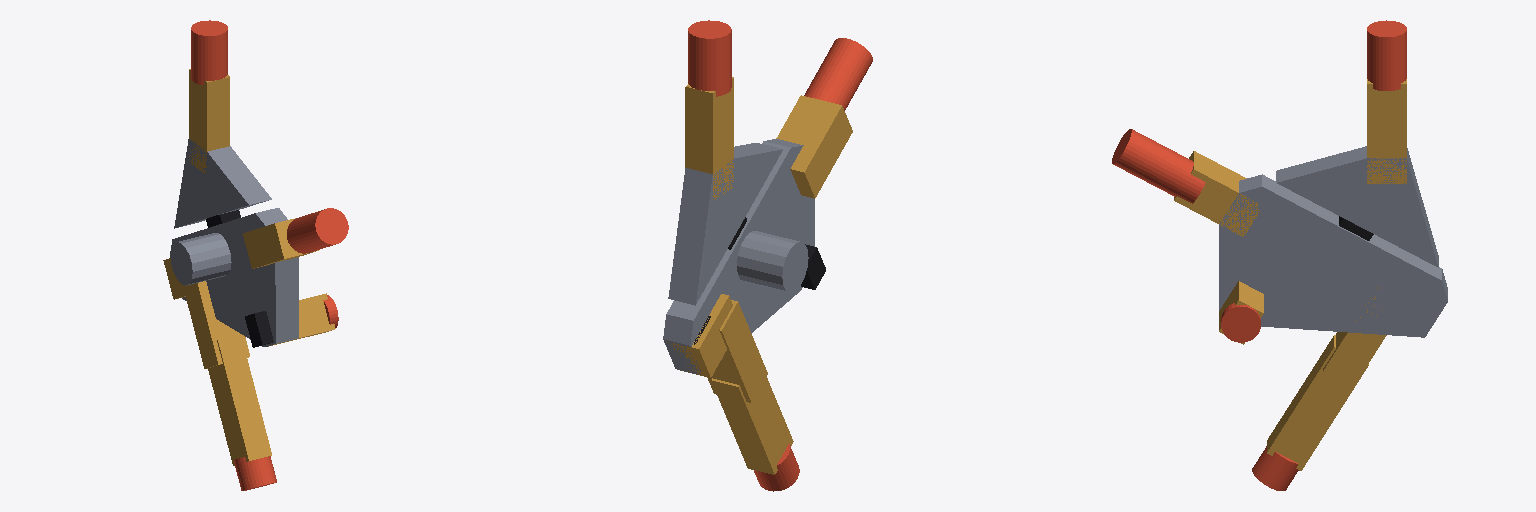
URDF robot description (g0052_c07):
<robot name="g0052_c07">
  <link name="palm">
    <visual name="palm_palm1">
      <origin xyz="0 0 0" rpy="0 0 0" />
      <geometry>
        <mesh filename="palm_palm1.obj" />
      </geometry>
      <material name="palm_palm1_mat">
        <color rgba="0.55 0.57 0.62 1" />
      </material>
    </visual>
    <collision>
      <origin xyz="0 0 0" rpy="0 0 0" />
      <geometry>
        <mesh filename="palm_palm1.obj" />
      </geometry>
    </collision>
    <visual name="palm_mount2">
      <origin xyz="0 0 0" rpy="0 0 0" />
      <geometry>
        <mesh filename="palm_mount2.obj" />
      </geometry>
      <material name="palm_mount2_mat">
        <color rgba="0.55 0.57 0.62 1" />
      </material>
    </visual>
    <collision>
      <origin xyz="0 0 0" rpy="0 0 0" />
      <geometry>
        <mesh filename="palm_mount2.obj" />
      </geometry>
    </collision>
    <visual name="palm_hinge3">
      <origin xyz="0 0.01125 0.0194855716" rpy="-1.57079633 0.523598776 1.57079633" />
      <geometry>
        <box size="0.029 0.034 0.02" />
      </geometry>
      <material name="palm_hinge3_mat">
        <color rgba="0.15 0.15 0.17 1" />
      </material>
    </visual>
    <collision>
      <origin xyz="0 0.01125 0.0194855716" rpy="-1.57079633 0.523598776 1.57079633" />
      <geometry>
        <box size="0.029 0.034 0.02" />
      </geometry>
    </collision>
    <visual name="palm_motor4">
      <origin xyz="-0.007 -0.08 -0.04" rpy="1.06057524e-16 -1.04719755 1.57079633" />
      <geometry>
        <box size="0.029 0.034 0.02" />
      </geometry>
      <material name="palm_motor4_mat">
        <color rgba="0.15 0.15 0.17 1" />
      </material>
    </visual>
    <collision>
      <origin xyz="-0.007 -0.08 -0.04" rpy="1.06057524e-16 -1.04719755 1.57079633" />
      <geometry>
        <box size="0.029 0.034 0.02" />
      </geometry>
    </collision>
    <visual name="palm_motor5">
      <origin xyz="0 -0.0735048095 0.03625" rpy="-1.57079633 -1.04719755 1.57079633" />
      <geometry>
        <box size="0.029 0.034 0.02" />
      </geometry>
      <material name="palm_motor5_mat">
        <color rgba="0.15 0.15 0.17 1" />
      </material>
    </visual>
    <collision>
      <origin xyz="0 -0.0735048095 0.03625" rpy="-1.57079633 -1.04719755 1.57079633" />
      <geometry>
        <box size="0.029 0.034 0.02" />
      </geometry>
    </collision>
    <visual name="palm_motor6">
      <origin xyz="-0.0045 0.0666996732 -0.0467548095" rpy="1.57079633 -0.523598776 -1.57079633" />
      <geometry>
        <box size="0.029 0.034 0.02" />
      </geometry>
      <material name="palm_motor6_mat">
        <color rgba="0.15 0.15 0.17 1" />
      </material>
    </visual>
    <collision>
      <origin xyz="-0.0045 0.0666996732 -0.0467548095" rpy="1.57079633 -0.523598776 -1.57079633" />
      <geometry>
        <box size="0.029 0.034 0.02" />
      </geometry>
    </collision>
    <inertial>
      <origin xyz="-1.27961194e-19 -0.0179506093 -0.0140764242" rpy="1.57079633 0.368820023 1.57079633" />
      <mass value="0.724002533" />
      <inertia ixx="0.000610524896" ixy="0" ixz="0" iyy="0.00199602001" iyz="0" izz="0.00253704066" />
    </inertial>
  </link>
  <link name="palm0">
    <visual name="palm0_palm1">
      <origin xyz="0 0 0" rpy="0 0 0" />
      <geometry>
        <mesh filename="palm0_palm1.obj" />
      </geometry>
      <material name="palm0_palm1_mat">
        <color rgba="0.55 0.57 0.62 1" />
      </material>
    </visual>
    <collision>
      <origin xyz="0 0 0" rpy="0 0 0" />
      <geometry>
        <mesh filename="palm0_palm1.obj" />
      </geometry>
    </collision>
    <visual name="palm0_motor2">
      <origin xyz="0 0.025 0.0465192379" rpy="-1.57079633 -0 1.57079633" />
      <geometry>
        <box size="0.029 0.034 0.02" />
      </geometry>
      <material name="palm0_motor2_mat">
        <color rgba="0.15 0.15 0.17 1" />
      </material>
    </visual>
    <collision>
      <origin xyz="0 0.025 0.0465192379" rpy="-1.57079633 -0 1.57079633" />
      <geometry>
        <box size="0.029 0.034 0.02" />
      </geometry>
    </collision>
    <inertial>
      <origin xyz="0 0.0130639887 0.0269205176" rpy="-1.57079633 -0.525925129 -1.57079633" />
      <mass value="0.252867523" />
      <inertia ixx="9.18066466e-05" ixy="0" ixz="0" iyy="0.000269227562" iyz="0" izz="0.000336758926" />
    </inertial>
  </link>
  <link name="f0_link0">
    <visual name="f0_link0_link1">
      <origin xyz="0.01875 0 -6.9388939e-18" rpy="4.06369831e-17 2.80588734e-33 -2.0827301e-33" />
      <geometry>
        <box size="0.0615 0.033 0.024" />
      </geometry>
      <material name="f0_link0_link1_mat">
        <color rgba="0.80 0.62 0.30 1" />
      </material>
    </visual>
    <collision>
      <origin xyz="0.01875 0 -6.9388939e-18" rpy="4.06369831e-17 2.80588734e-33 -2.0827301e-33" />
      <geometry>
        <box size="0.0615 0.033 0.024" />
      </geometry>
    </collision>
    <inertial>
      <origin xyz="0.01875 0 0" rpy="0 0 0" />
      <mass value="0.085239" />
      <inertia ixx="1.18269113e-05" ixy="0" ixz="0" iyy="3.09577393e-05" iyz="0" izz="3.46017066e-05" />
    </inertial>
  </link>
  <link name="f0_link1">
    <visual name="f0_link1_link1">
      <origin xyz="0.009 0 -6.9388939e-18" rpy="-1.57079633 -0 -1.57079633" />
      <geometry>
        <cylinder radius="0.0165" length="0.009" />
      </geometry>
      <material name="f0_link1_link1_mat">
        <color rgba="0.85 0.35 0.25 1" />
      </material>
    </visual>
    <collision>
      <origin xyz="0.009 0 -6.9388939e-18" rpy="-1.57079633 -0 -1.57079633" />
      <geometry>
        <cylinder radius="0.0165" length="0.009" />
      </geometry>
    </collision>
    <inertial>
      <origin xyz="0.009 0 0" rpy="0 0 0" />
      <mass value="0.046399949" />
      <inertia ixx="5.41970115e-06" ixy="0" ixz="0" iyy="7.09430898e-06" iyz="0" izz="7.09430898e-06" />
    </inertial>
  </link>
  <link name="f1_link0">
    <visual name="f1_link0_link1">
      <origin xyz="0.02125 -0.00625 -2.60208521e-18" rpy="0 7.03853194e-17 0" />
      <geometry>
        <box size="0.0665 0.0365 0.033" />
      </geometry>
      <material name="f1_link0_link1_mat">
        <color rgba="0.80 0.62 0.30 1" />
      </material>
    </visual>
    <collision>
      <origin xyz="0.02125 -0.00625 -2.60208521e-18" rpy="0 7.03853194e-17 0" />
      <geometry>
        <box size="0.0665 0.0365 0.033" />
      </geometry>
    </collision>
    <inertial>
      <origin xyz="0.02125 -0.00625 0" rpy="0 0 0" />
      <mass value="0.140173688" />
      <inertia ixx="2.82829617e-05" ixy="0" ixz="0" iyy="6.43776863e-05" iyz="0" izz="6.72191237e-05" />
    </inertial>
  </link>
  <link name="f1_link1">
    <visual name="f1_link1_link1">
      <origin xyz="0.03675 0 -5.20417043e-18" rpy="-1.57079633 -0 -1.57079633" />
      <geometry>
        <cylinder radius="0.0165" length="0.0735" />
      </geometry>
      <material name="f1_link1_link1_mat">
        <color rgba="0.85 0.35 0.25 1" />
      </material>
    </visual>
    <collision>
      <origin xyz="0.03675 0 -5.20417043e-18" rpy="-1.57079633 -0 -1.57079633" />
      <geometry>
        <cylinder radius="0.0165" length="0.0735" />
      </geometry>
    </collision>
    <inertial>
      <origin xyz="0.03675 0 0" rpy="0 0 0" />
      <mass value="0.142941779" />
      <inertia ixx="1.85614577e-05" ixy="0" ixz="0" iyy="0.000120048249" iyz="0" izz="0.000120048249" />
    </inertial>
  </link>
  <link name="f2_link0">
    <visual name="f2_link0_link1">
      <origin xyz="-0.00625 0 -0.0165" rpy="0 4.06369831e-17 0" />
      <geometry>
        <box size="0.0365 0.029 0.053" />
      </geometry>
      <material name="f2_link0_link1_mat">
        <color rgba="0.80 0.62 0.30 1" />
      </material>
    </visual>
    <collision>
      <origin xyz="-0.00625 0 -0.0165" rpy="0 4.06369831e-17 0" />
      <geometry>
        <box size="0.0365 0.029 0.053" />
      </geometry>
    </collision>
    <inertial>
      <origin xyz="-0.00625 0 -0.0165" rpy="0 0 0" />
      <mass value="0.098175875" />
      <inertia ixx="2.98618286e-05" ixy="0" ixz="0" iyy="3.38809035e-05" iyz="0" izz="1.778006e-05" />
    </inertial>
  </link>
  <link name="f2_link1">
    <visual name="f2_link1_link1">
      <origin xyz="0.03375 0 6.9388939e-18" rpy="0 4.06369831e-17 0" />
      <geometry>
        <box size="0.0915 0.033 0.029" />
      </geometry>
      <material name="f2_link1_link1_mat">
        <color rgba="0.80 0.62 0.30 1" />
      </material>
    </visual>
    <collision>
      <origin xyz="0.03375 0 6.9388939e-18" rpy="0 4.06369831e-17 0" />
      <geometry>
        <box size="0.0915 0.033 0.029" />
      </geometry>
    </collision>
    <inertial>
      <origin xyz="0.03375 0 0" rpy="0 0 0" />
      <mass value="0.153239625" />
      <inertia ixx="2.46460397e-05" ixy="0" ixz="0" iyy="0.000117652915" iyz="0" izz="0.000120819867" />
    </inertial>
  </link>
  <link name="f2_link2">
    <visual name="f2_link2_link1">
      <origin xyz="0.04375 0 -6.9388939e-18" rpy="0 4.06369831e-17 0" />
      <geometry>
        <box size="0.1115 0.024 0.033" />
      </geometry>
      <material name="f2_link2_link1_mat">
        <color rgba="0.80 0.62 0.30 1" />
      </material>
    </visual>
    <collision>
      <origin xyz="0.04375 0 -6.9388939e-18" rpy="0 4.06369831e-17 0" />
      <geometry>
        <box size="0.1115 0.024 0.033" />
      </geometry>
    </collision>
    <inertial>
      <origin xyz="0.04375 0 0" rpy="0 0 0" />
      <mass value="0.154539" />
      <inertia ixx="2.14422863e-05" ixy="0" ixz="0" iyy="0.000174130038" iyz="0" izz="0.000167523496" />
    </inertial>
  </link>
  <link name="f2_link3">
    <visual name="f2_link3_link1">
      <origin xyz="0.019 0 -1.73472348e-17" rpy="-1.57079633 -0 -1.57079633" />
      <geometry>
        <cylinder radius="0.0165" length="0.029" />
      </geometry>
      <material name="f2_link3_link1_mat">
        <color rgba="0.85 0.35 0.25 1" />
      </material>
    </visual>
    <collision>
      <origin xyz="0.019 0 -1.73472348e-17" rpy="-1.57079633 -0 -1.57079633" />
      <geometry>
        <cylinder radius="0.0165" length="0.029" />
      </geometry>
    </collision>
    <inertial>
      <origin xyz="0.019 0 0" rpy="0 0 0" />
      <mass value="0.0763354" />
      <inertia ixx="9.49466441e-06" ixy="0" ixz="0" iyy="2.24143997e-05" iyz="0" izz="2.24143997e-05" />
    </inertial>
  </link>
  <link name="f3_link0">
    <visual name="f3_link0_link1">
      <origin xyz="0.03375 0 0" rpy="0 -0 0" />
      <geometry>
        <box size="0.0915 0.024 0.033" />
      </geometry>
      <material name="f3_link0_link1_mat">
        <color rgba="0.80 0.62 0.30 1" />
      </material>
    </visual>
    <collision>
      <origin xyz="0.03375 0 0" rpy="0 -0 0" />
      <geometry>
        <box size="0.0915 0.024 0.033" />
      </geometry>
    </collision>
    <inertial>
      <origin xyz="0.03375 0 0" rpy="0 0 0" />
      <mass value="0.126819" />
      <inertia ixx="1.75961363e-05" ixy="0" ixz="0" iyy="9.99888553e-05" iyz="0" izz="9.45673431e-05" />
    </inertial>
  </link>
  <link name="f3_link1">
    <visual name="f3_link1_link1">
      <origin xyz="0.029 0 0" rpy="-1.57079633 -0 -1.57079633" />
      <geometry>
        <cylinder radius="0.0165" length="0.049" />
      </geometry>
      <material name="f3_link1_link1_mat">
        <color rgba="0.85 0.35 0.25 1" />
      </material>
    </visual>
    <collision>
      <origin xyz="0.029 0 0" rpy="-1.57079633 -0 -1.57079633" />
      <geometry>
        <cylinder radius="0.0165" length="0.049" />
      </geometry>
    </collision>
    <inertial>
      <origin xyz="0.029 0 0" rpy="0 0 0" />
      <mass value="0.106270851" />
      <inertia ixx="1.35696277e-05" ixy="0" ixz="0" iyy="5.30015704e-05" iyz="0" izz="5.30015704e-05" />
    </inertial>
  </link>
  <joint name="palm0_joint" type="revolute">
    <parent link="palm" />
    <child link="palm0" />
    <origin xyz="0 0.015 0.0259807621" rpy="0 0 0" />
    <axis xyz="0 0.866025404 -0.5" />
    <limit effort="0.5" lower="-0.523598776" upper="0.523598776" velocity="5" />
    <dynamics damping="0.0775033" friction="0" />
  </joint>
  <joint name="f0_j0" type="revolute">
    <parent link="palm" />
    <child link="f0_link0" />
    <origin xyz="0.0005 -0.08 -0.04" rpy="1.04719755 5.30287619e-17 -3.061617e-17" />
    <axis xyz="0 1 6.123234e-17" />
    <limit effort="0.5" lower="-0.523598776" upper="0.523598776" velocity="5" />
    <dynamics damping="0.0775033" friction="0" />
  </joint>
  <joint name="f0_j1" type="revolute">
    <parent link="f0_link0" />
    <child link="f0_link1" />
    <origin xyz="0.04 0 0" rpy="0 0 0" />
    <axis xyz="0 1 6.123234e-17" />
    <limit effort="0.5" lower="-0.523598776" upper="0.523598776" velocity="5" />
    <dynamics damping="0.0775033" friction="0" />
  </joint>
  <joint name="f1_j0" type="revolute">
    <parent link="palm" />
    <child link="f1_link0" />
    <origin xyz="0 -0.08 0.04" rpy="-0 -0.523598776 -1.57079633" />
    <axis xyz="0 0 1" />
    <limit effort="0.5" lower="-0.523598776" upper="1.57079633" velocity="5" />
    <dynamics damping="0.0775033" friction="0" />
  </joint>
  <joint name="f1_j1" type="revolute">
    <parent link="f1_link0" />
    <child link="f1_link1" />
    <origin xyz="0.04 0 0" rpy="0 0 0" />
    <axis xyz="1 0 6.123234e-17" />
    <limit effort="0.5" lower="-1.57079633" upper="1.57079633" velocity="5" />
    <dynamics damping="0.0775033" friction="0" />
  </joint>
  <joint name="f2_j0" type="revolute">
    <parent link="palm" />
    <child link="f2_link0" />
    <origin xyz="-0.0045 0.04 -0.04" rpy="0 1.04719755 -1.57079633" />
    <axis xyz="0 0 1" />
    <limit effort="0.5" lower="-0.523598776" upper="1.57079633" velocity="5" />
    <dynamics damping="0.0775033" friction="0" />
  </joint>
  <joint name="f2_j1" type="revolute">
    <parent link="f2_link0" />
    <child link="f2_link1" />
    <origin xyz="0 0 0" rpy="0 0 0" />
    <axis xyz="0 1 6.123234e-17" />
    <limit effort="0.5" lower="-0.523598776" upper="0.523598776" velocity="5" />
    <dynamics damping="0.0775033" friction="0" />
  </joint>
  <joint name="f2_j2" type="revolute">
    <parent link="f2_link1" />
    <child link="f2_link2" />
    <origin xyz="0.07 0 0" rpy="0 0 0" />
    <axis xyz="0 0 1" />
    <limit effort="0.5" lower="-0.523598776" upper="1.57079633" velocity="5" />
    <dynamics damping="0.0775033" friction="0" />
  </joint>
  <joint name="f2_j3" type="revolute">
    <parent link="f2_link2" />
    <child link="f2_link3" />
    <origin xyz="0.09 0 0" rpy="0 0 0" />
    <axis xyz="0 0 1" />
    <limit effort="0.5" lower="-0.523598776" upper="1.57079633" velocity="5" />
    <dynamics damping="0.0775033" friction="0" />
  </joint>
  <joint name="f3_j0" type="revolute">
    <parent link="palm0" />
    <child link="f3_link0" />
    <origin xyz="0 0.025 0.0540192379" rpy="-1.57079633 -1.57079633 0" />
    <axis xyz="0 0 1" />
    <limit effort="0.5" lower="-0.523598776" upper="1.57079633" velocity="5" />
    <dynamics damping="0.0775033" friction="0" />
  </joint>
  <joint name="f3_j1" type="revolute">
    <parent link="f3_link0" />
    <child link="f3_link1" />
    <origin xyz="0.07 0 0" rpy="0 0 0" />
    <axis xyz="0 0 1" />
    <limit effort="0.5" lower="-0.523598776" upper="1.57079633" velocity="5" />
    <dynamics damping="0.0775033" friction="0" />
  </joint>
</robot>

--- Facts derived from the render (not from the file) ---
Views: 3 orthographic renders of the robot side by side, from view 1: azimuth 30°, elevation 25°; view 2: azimuth 150°, elevation 25°; view 3: azimuth 270°, elevation 25°.
Model g0052_c07 with 12 links and 11 joints (11 revolute), rooted at palm, posed all joints at 0.
Visible links, largest first — view 1: palm, palm0, f2_link2, f3_link0, f2_link1, f3_link1, f1_link1, f1_link0, f0_link0, f2_link3; view 2: palm, palm0, f1_link0, f2_link2, f3_link0, f3_link1, f2_link1, f1_link1, f2_link0, f2_link3; view 3: palm, palm0, f2_link2, f3_link0, f1_link1, f1_link0, f3_link1, f2_link1, f2_link3, f0_link1, f0_link0.
Boxes of the visible links, box(x1,y1,x2,y2) form: palm: box(170, 208, 298, 347); palm0: box(174, 139, 271, 228); f2_link2: box(208, 335, 271, 465); f3_link0: box(189, 69, 229, 173); f2_link1: box(183, 281, 249, 368); f3_link1: box(191, 20, 227, 84); f1_link1: box(287, 208, 348, 253); f1_link0: box(243, 218, 318, 268); f0_link0: box(268, 293, 335, 346); f2_link3: box(234, 456, 276, 490); palm: box(663, 139, 825, 374); palm0: box(668, 143, 782, 305); f1_link0: box(776, 95, 852, 198); f2_link2: box(711, 377, 793, 474); f3_link0: box(685, 77, 733, 199); f3_link1: box(688, 20, 731, 96); f2_link1: box(707, 300, 767, 402); f1_link1: box(804, 38, 872, 110); f2_link0: box(666, 294, 732, 377); f2_link3: box(754, 444, 799, 491); palm: box(1219, 174, 1447, 337); palm0: box(1276, 146, 1438, 267); f2_link2: box(1267, 335, 1368, 470); f3_link0: box(1367, 79, 1406, 183); f1_link1: box(1112, 129, 1205, 203); f1_link0: box(1174, 151, 1259, 236); f3_link1: box(1367, 20, 1406, 90); f2_link1: box(1323, 287, 1386, 386); f2_link3: box(1252, 446, 1298, 490); f0_link1: box(1221, 303, 1260, 342); f0_link0: box(1219, 281, 1263, 344).
Bounding box of the posed robot: 0.106 × 0.277 × 0.4193 m (x, y, z).
Meshes: 3 distinct files referenced, 3 mesh visuals loaded (3 OBJ).
